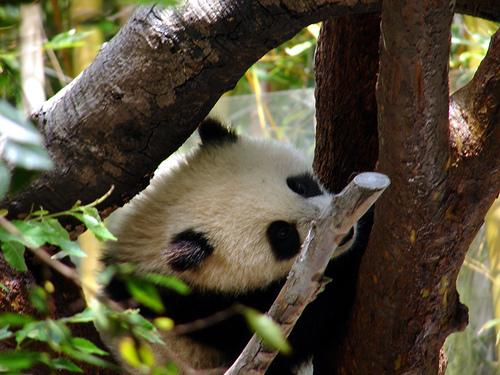panda: (102, 114, 389, 374)
